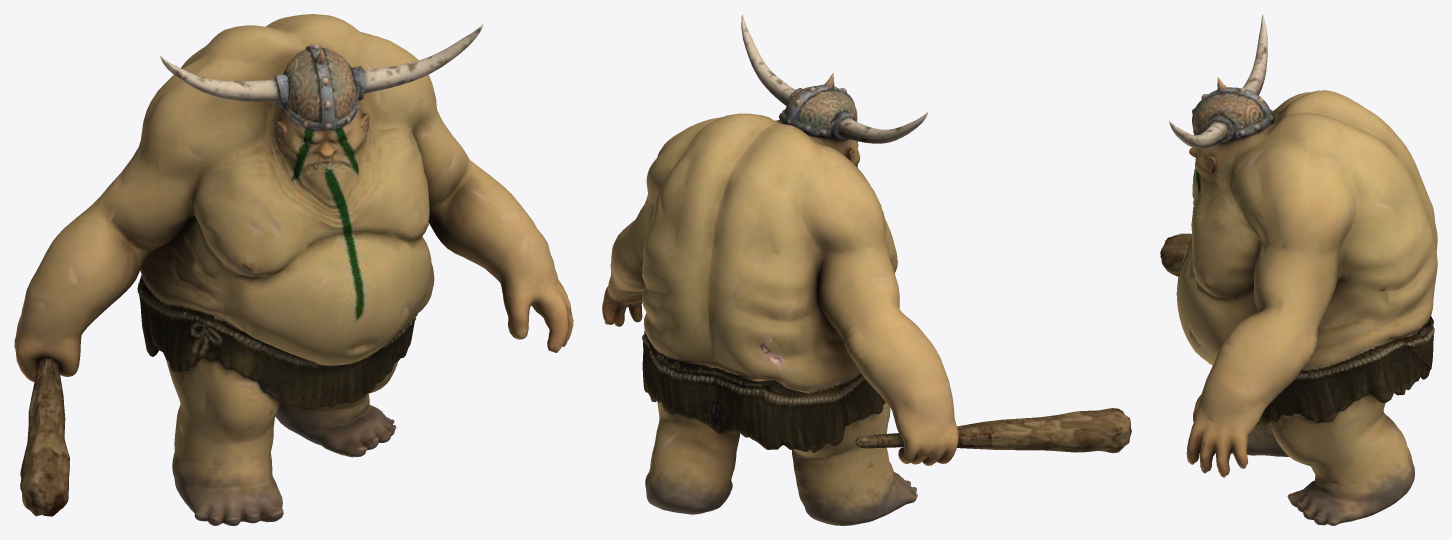
The model's file is MZ4250 - Hill Giant 2.glb.
3 views of the same model, side by side, from view 1: azimuth 30°, elevation 25°; view 2: azimuth 150°, elevation 25°; view 3: azimuth 270°, elevation 25° (orthographic). The views are drawn at different scales.
Visible parts, largest first — view 1: Hill Giant Updated Club.001; view 2: Hill Giant Updated Club.001; view 3: Hill Giant Updated Club.001.
Part boxes in pixels (x1=…): Hill Giant Updated Club.001: x1=14, y1=14, x2=573, y2=525; Hill Giant Updated Club.001: x1=602, y1=14, x2=1131, y2=525; Hill Giant Updated Club.001: x1=1160, y1=14, x2=1437, y2=525.
Size of the model in its own units: 2.53 by 2.02 by 1.24.
1 material, 1 textured.
